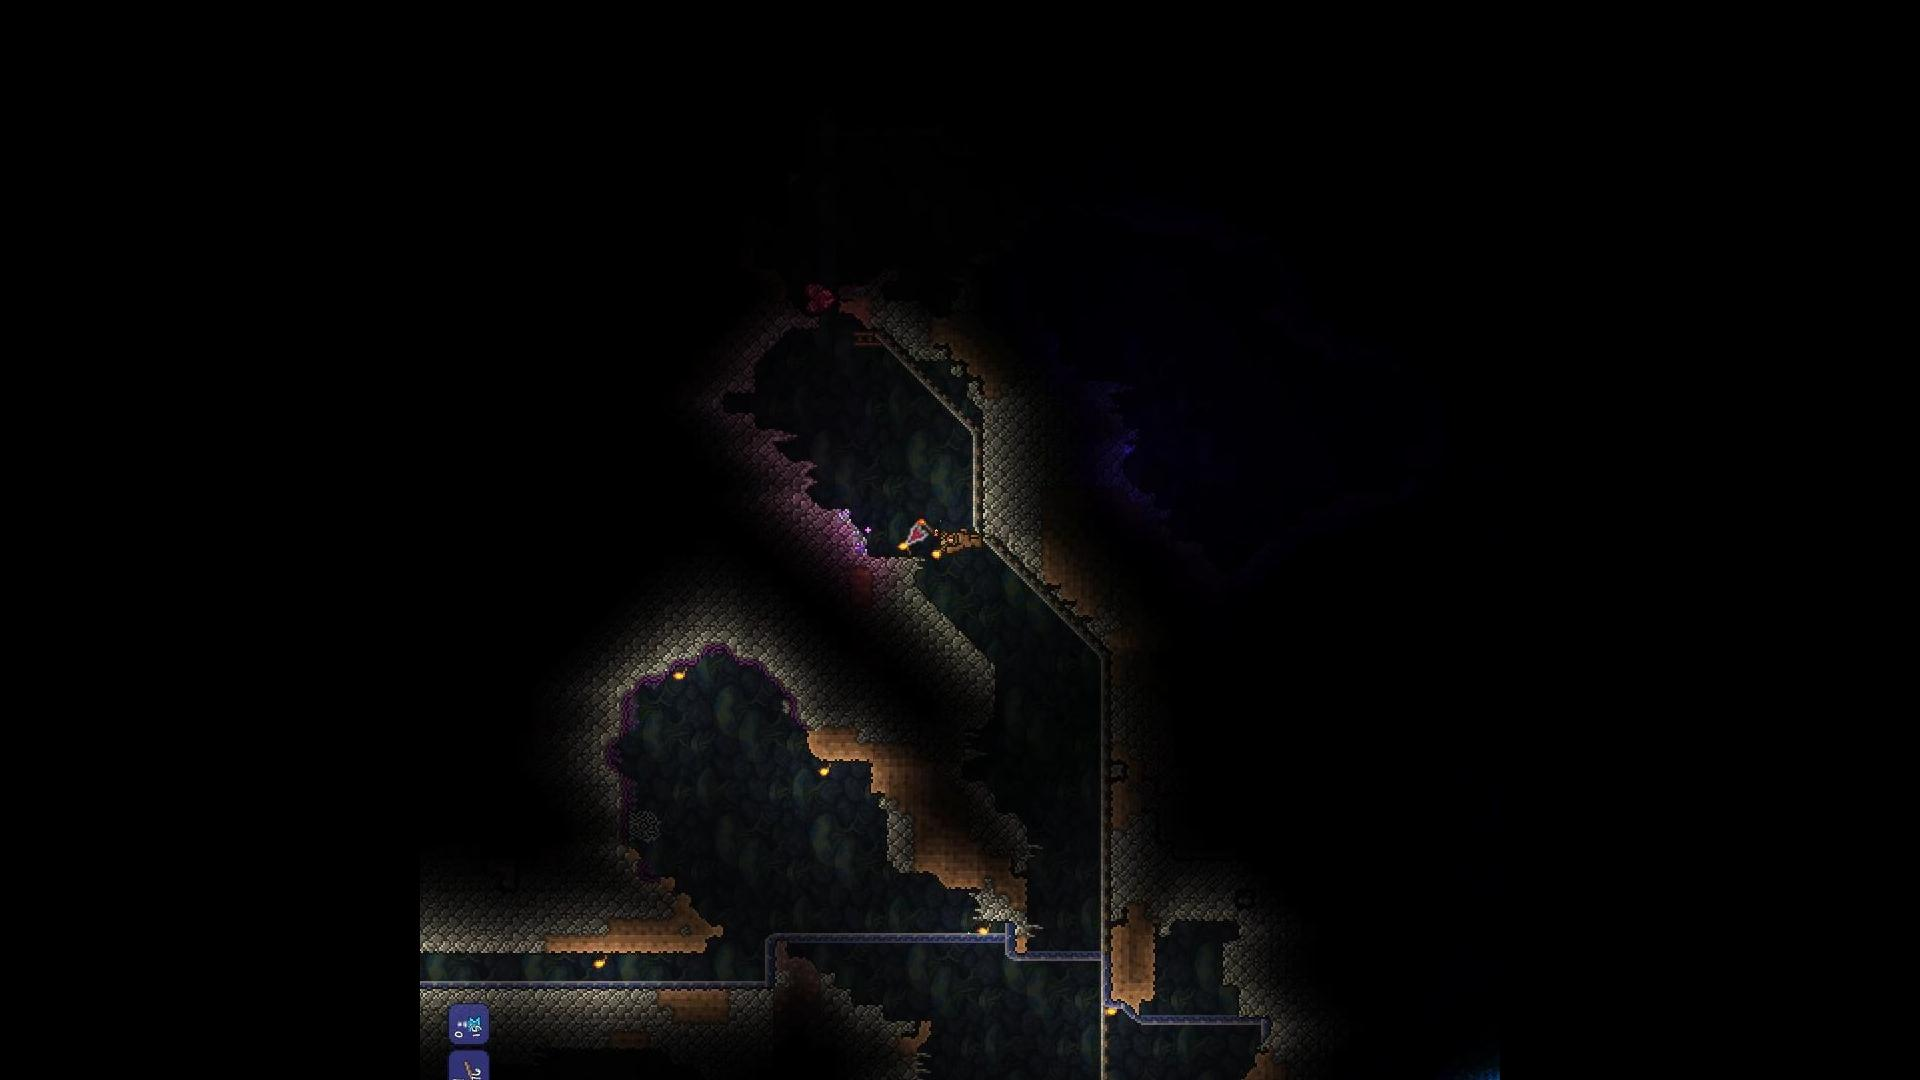cobwebT: (642, 808, 661, 824), (644, 825, 661, 841), (628, 808, 644, 825), (628, 825, 642, 841)
rope: (452, 1014, 481, 1031)
